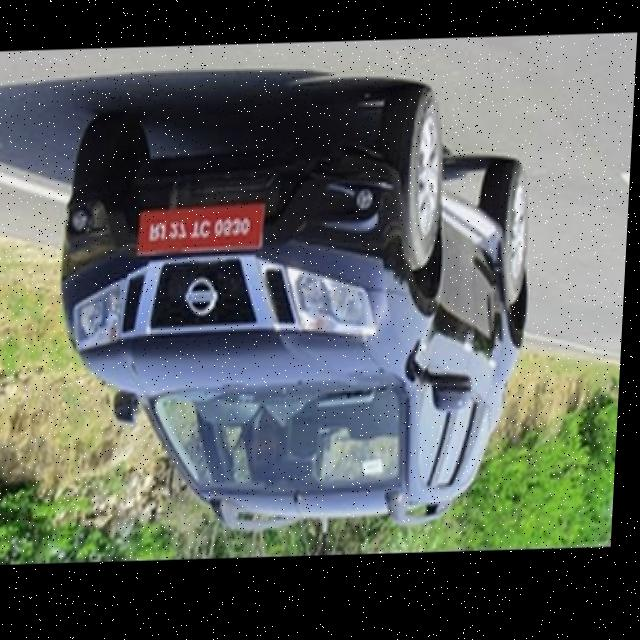plate: (140, 203, 268, 259)
